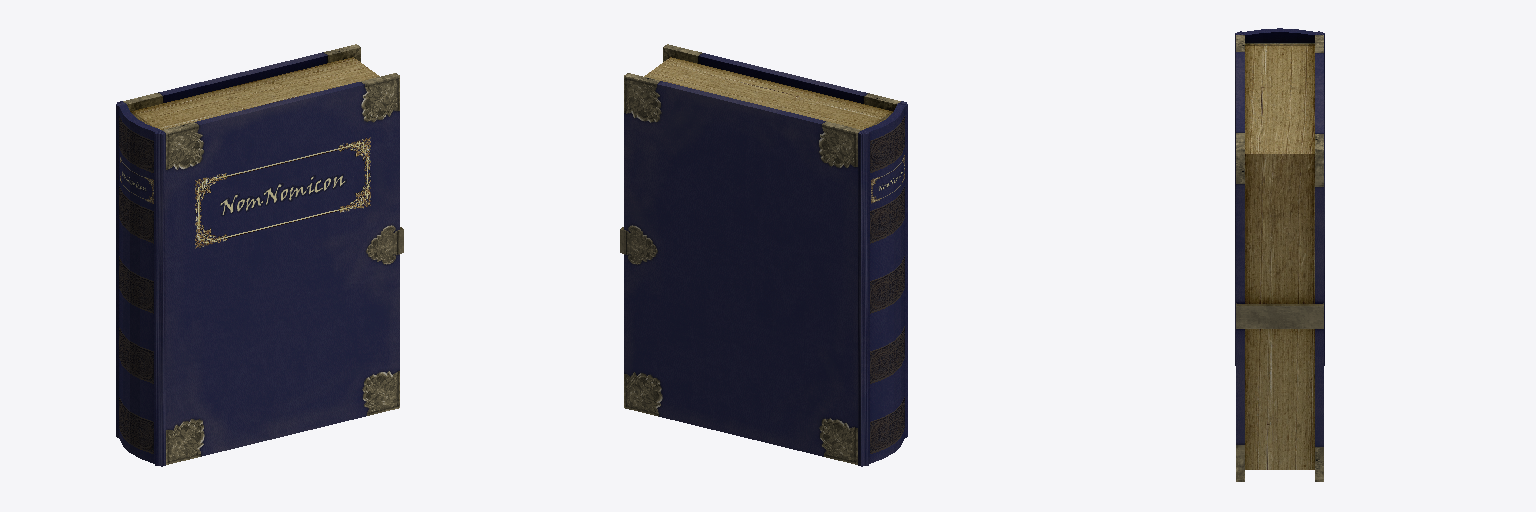
3 views of the same model, side by side, from view 1: azimuth 30°, elevation 25°; view 2: azimuth 150°, elevation 25°; view 3: azimuth 270°, elevation 25° (orthographic).
Parts seen in each view (by area): view 1: Default; view 2: Default; view 3: Default.
Part boxes in pixels (x1,y1,x2,y2): Default: (116,44,403,466); Default: (620,44,907,466); Default: (1235,28,1324,481).
Bounding box in the file's own units: 0.3343 × 0.42 × 0.1034.
Materials: 1 (1 with a texture image).